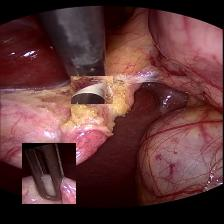Grasper: (22, 142, 76, 203)
Hook: (72, 75, 114, 103)
